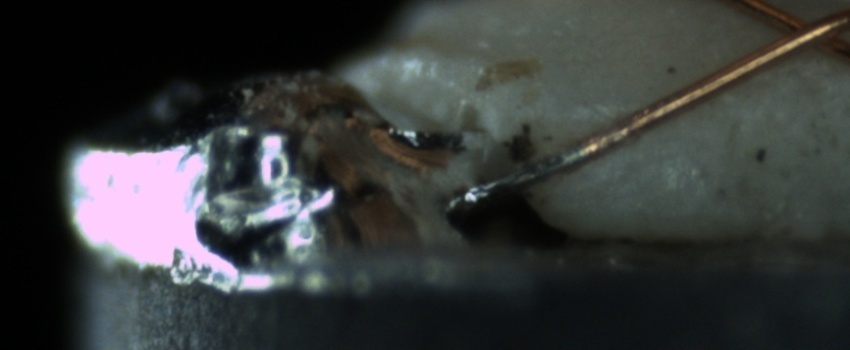CL: (756, 2, 847, 62)
TS: (461, 135, 607, 204)
